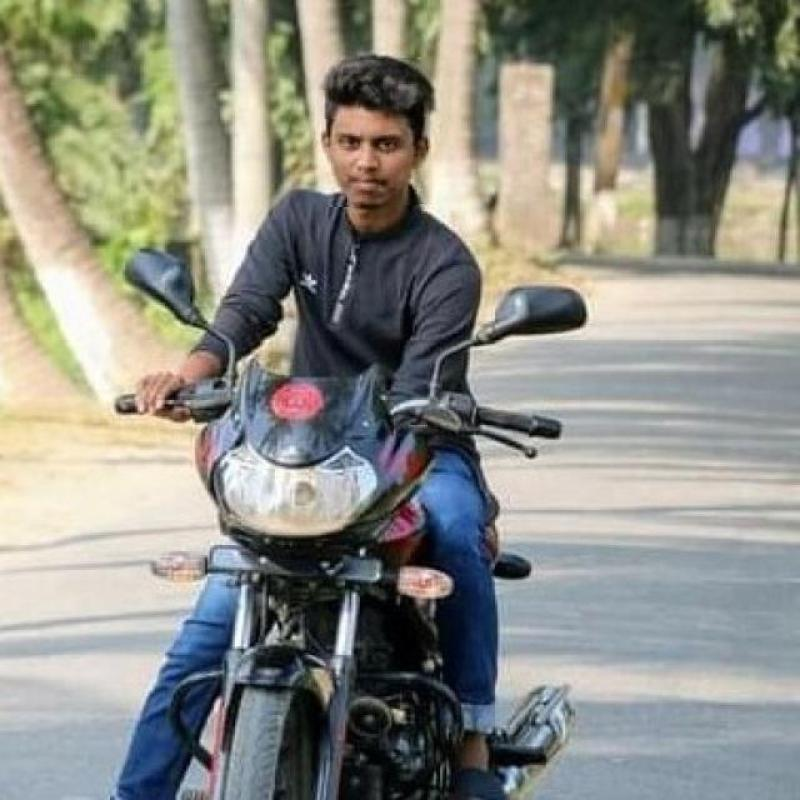nohelmet: (318, 58, 432, 207)
